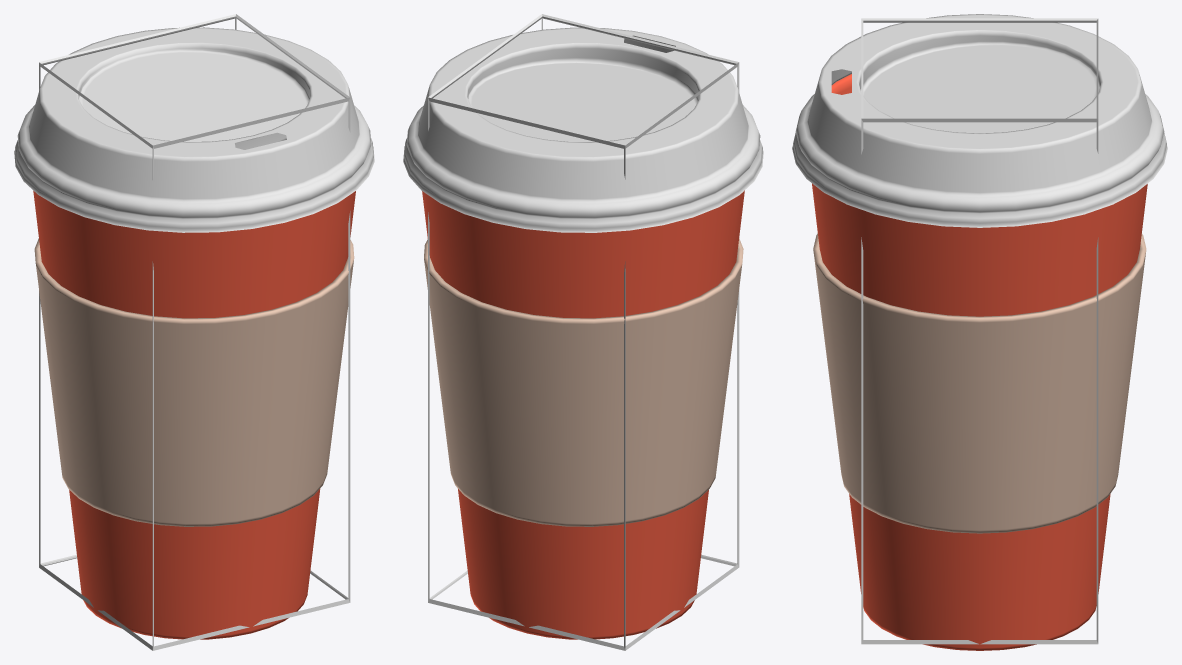
Rendered from coffee_cup_v3.glb.
The picture shows the model from 3 angles, left to right: view 1: azimuth 30°, elevation 25°; view 2: azimuth 150°, elevation 25°; view 3: azimuth 270°, elevation 25°; orthographic projection. The views are drawn at different scales.
Parts seen in each view (by area): view 1: Sleeve, Lid, Cup, aabb; view 2: Sleeve, Lid, Cup, aabb; view 3: Sleeve, Lid, Cup, aabb.
Part boxes in pixels (x1,y1,x2,y2): Sleeve: [34, 238, 354, 526]; Lid: [14, 27, 374, 232]; Cup: [33, 191, 355, 639]; aabb: [39, 14, 350, 650]; Sleeve: [424, 238, 743, 526]; Lid: [403, 27, 763, 232]; Cup: [422, 190, 744, 639]; aabb: [428, 14, 739, 650]; Sleeve: [813, 233, 1146, 533]; Lid: [792, 14, 1167, 227]; Cup: [812, 74, 1147, 650]; aabb: [861, 18, 1098, 644].
Size of the model in its own units: 0.3188 by 0.4988 by 0.3188.
